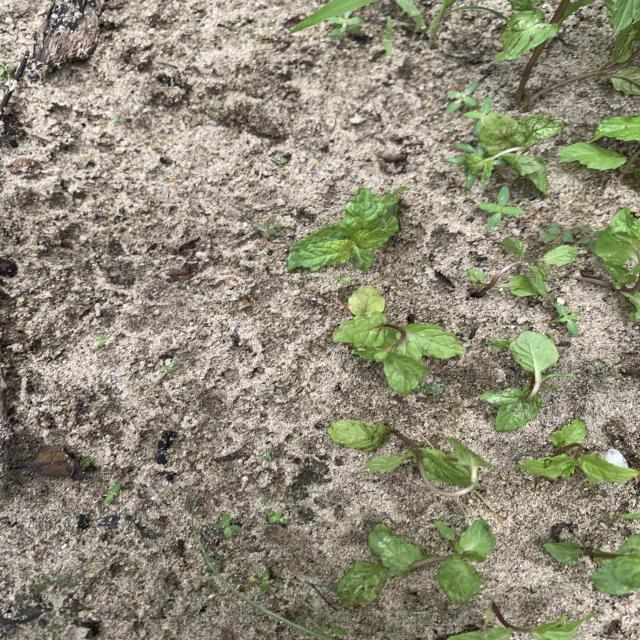crop: (334, 285, 464, 392), (337, 520, 494, 603), (329, 421, 490, 495), (515, 19, 640, 110), (287, 187, 405, 271), (448, 112, 563, 192), (483, 331, 571, 429), (518, 420, 638, 487), (467, 237, 577, 296), (584, 208, 639, 319), (497, 1, 592, 61), (544, 539, 639, 594), (446, 604, 595, 639), (559, 114, 639, 174), (604, 1, 639, 30), (551, 0, 569, 21)
weed: (290, 1, 375, 33), (478, 187, 523, 228), (447, 82, 477, 111), (464, 97, 491, 129), (554, 303, 579, 335), (397, 0, 425, 27), (540, 224, 577, 243), (329, 15, 362, 36), (213, 513, 239, 539), (250, 570, 279, 591), (35, 574, 67, 593), (259, 219, 282, 236), (265, 509, 289, 523), (105, 483, 119, 503), (317, 626, 346, 635), (418, 384, 442, 394), (0, 61, 14, 78), (385, 17, 391, 55), (409, 609, 429, 619), (166, 358, 179, 373), (95, 334, 105, 347), (334, 277, 347, 284), (260, 451, 271, 459)
